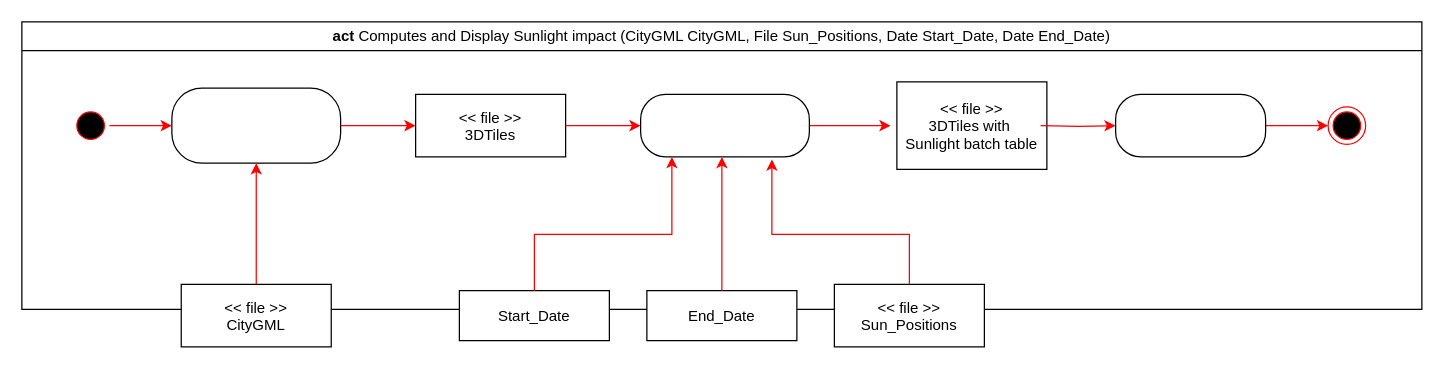
Image size: 1444x369. Some labels were removed from this diagram. The centre of each missing label's shape, as x and y in pixels:
py3DTiler Converts to 3DTiles: (256,125)
pySunlight Computes Sunlight: (724,125)
UD-Viz Display result: (1190,125)
